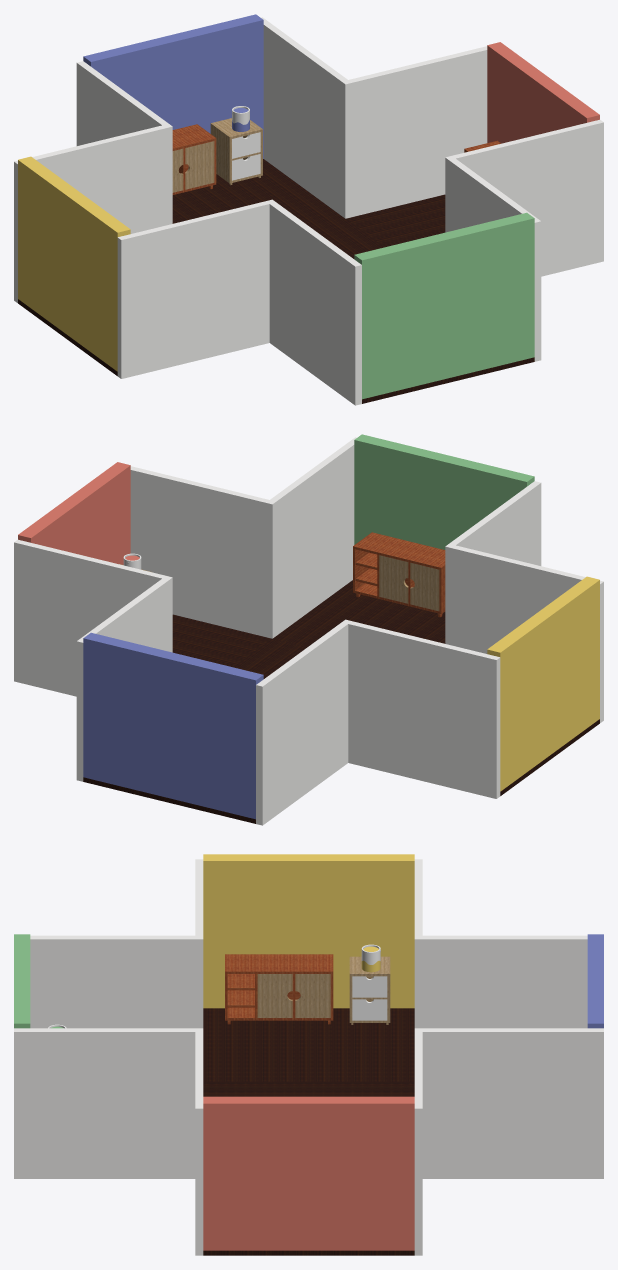
3 renders of one model, top to bottom at view 1: azimuth 30°, elevation 25°; view 2: azimuth 150°, elevation 25°; view 3: azimuth 270°, elevation 25°, orthographic. The views are drawn at different scales.
Parts seen in each view (by area): view 1: Body34, Body37, Body70, Body35, Body59, Body36, Body15, Body48, Body1, Body38, Body9, Body71 (+6 smaller); view 2: Body36, Body35, Body15, Body37, Body59, Body34, Body70, Body48, Body60, Body61, Body38, Body71 (+4 smaller); view 3: Body48, Body35, Body37, Body59, Body36, Body34, Body49, Body50, Body71, Body15, Body70, Body51 (+5 smaller).
Boxes of the visible parts, <box> form: Body34: <box>117,199,361,405</box>; Body37: <box>261,17,487,218</box>; Body70: <box>354,212,534,399</box>; Body35: <box>445,119,603,361</box>; Body59: <box>18,156,130,371</box>; Body36: <box>14,61,172,302</box>; Body15: <box>83,14,263,158</box>; Body48: <box>487,42,599,143</box>; Body1: <box>172,159,344,227</box>; Body38: <box>346,194,445,247</box>; Body9: <box>210,118,262,185</box>; Body71: <box>311,219,384,258</box>; Body36: <box>256,619,500,825</box>; Body35: <box>130,437,356,638</box>; Body15: <box>83,632,263,819</box>; Body37: <box>14,539,172,781</box>; Body59: <box>487,576,599,791</box>; Body34: <box>445,481,603,722</box>; Body70: <box>354,434,534,549</box>; Body48: <box>18,462,130,564</box>; Body60: <box>273,580,445,647</box>; Body61: <box>353,532,445,617</box>; Body38: <box>172,614,271,667</box>; Body71: <box>233,639,306,678</box>; Body48: <box>203,1096,414,1250</box>; Body35: <box>14,1028,203,1255</box>; Body37: <box>414,1028,603,1255</box>; Body59: <box>203,854,414,1008</box>; Body36: <box>414,859,587,1028</box>; Body34: <box>30,859,203,1028</box>; Body49: <box>203,1008,414,1081</box>; Body50: <box>225,954,333,1024</box>; Body71: <box>203,1081,414,1096</box>; Body15: <box>587,934,603,1028</box>; Body70: <box>14,934,30,1028</box>; Body51: <box>257,974,292,1017</box>.
Bounding box in the file's own units: 27.69 × 7.87 × 27.69.
10 materials, 3 textured.
